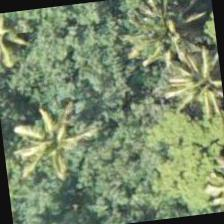Kelapa_Sawit: (0, 85, 100, 184), (112, 0, 212, 79), (153, 32, 223, 131), (0, 8, 47, 73)
